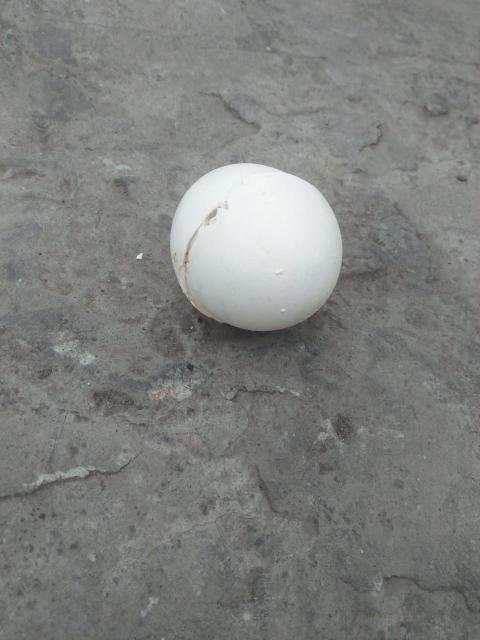Roto: (168, 161, 343, 332)
